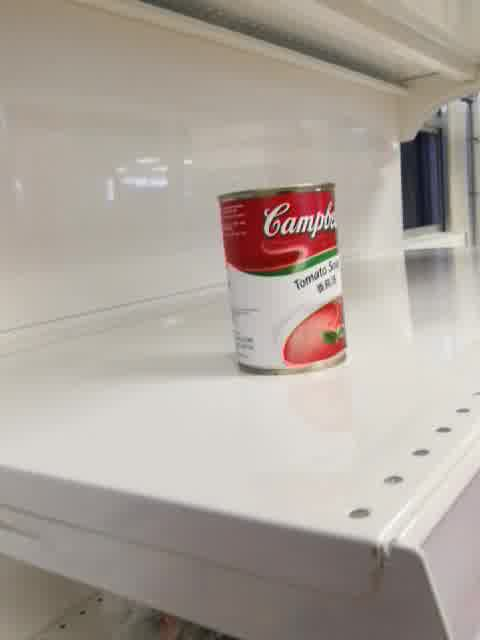tomatosoup: (215, 179, 348, 377)
